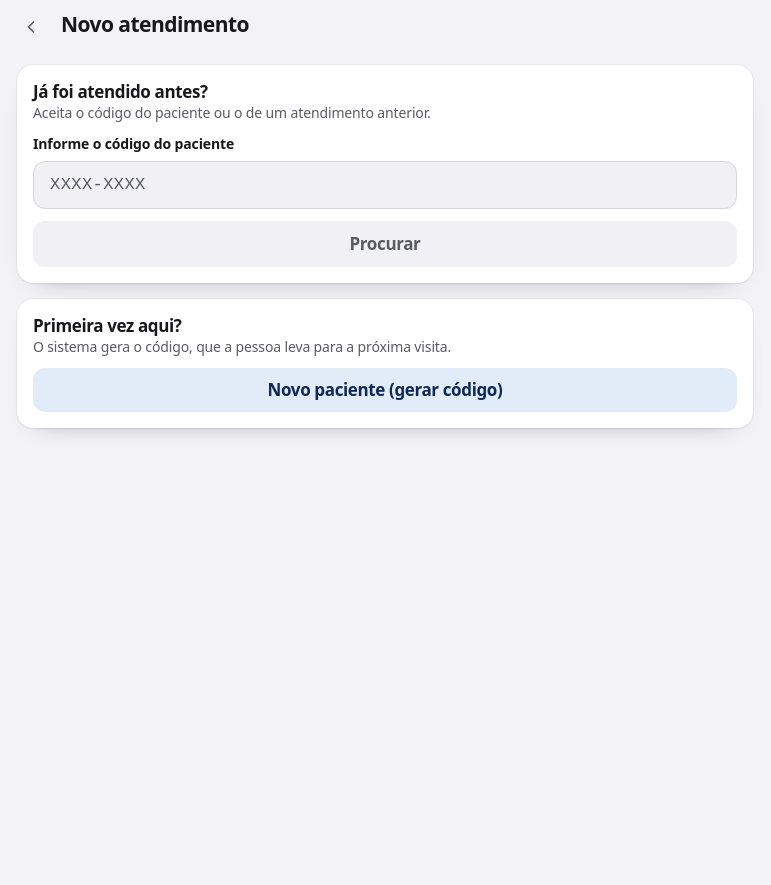
Scenario: Novo atendimento › recupera o cadastro de quem volta com o código
In the field labelled "Informe o código do paciente": (385, 185) left=33, top=161, right=737, bottom=209, type "4K7Z-2YAP"
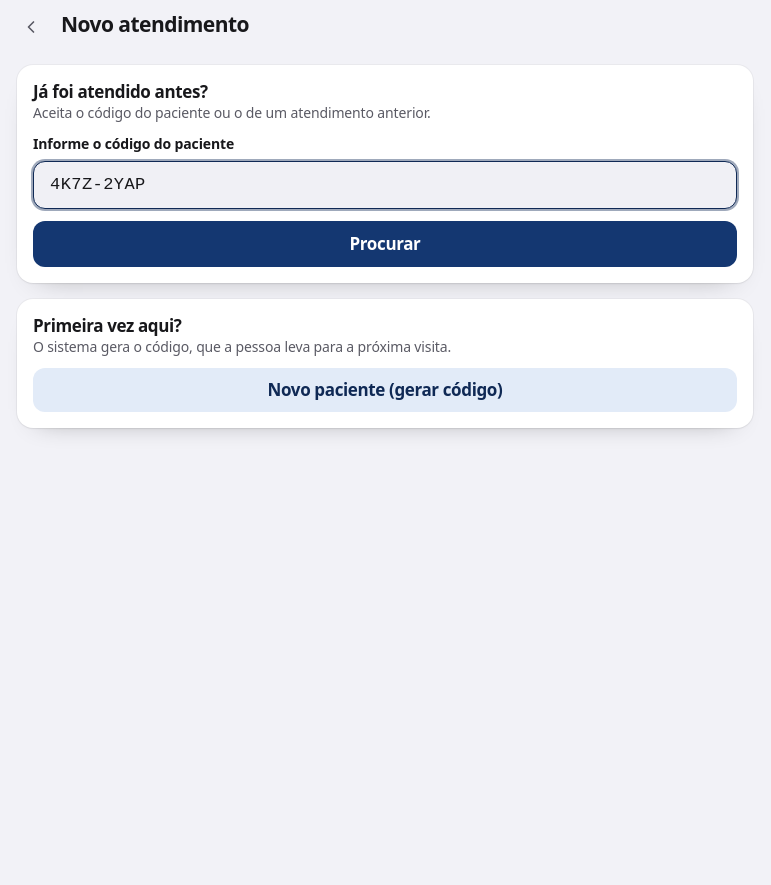
Click the button "Procurar": (385, 244) left=33, top=221, right=737, bottom=267
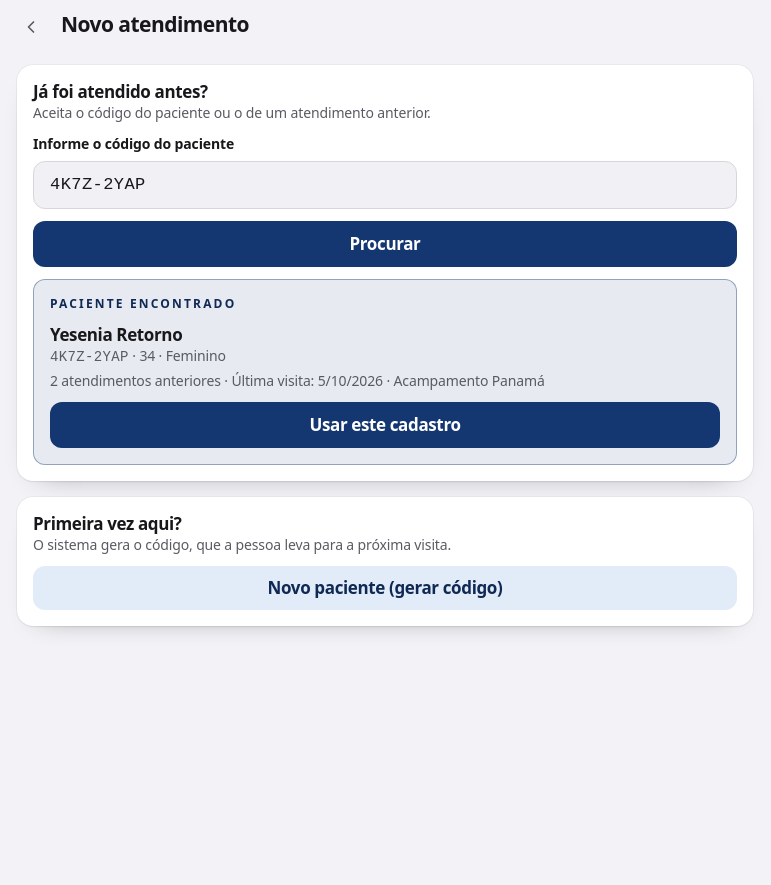
Expected: the text "Yesenia Retorno" is shown, left=50, top=323, right=182, bottom=346
Expected: the text "2 atendimentos anteriores" is shown, left=50, top=371, right=221, bottom=390
Click the button "Usar este cadastro": (385, 425) left=50, top=402, right=720, bottom=448
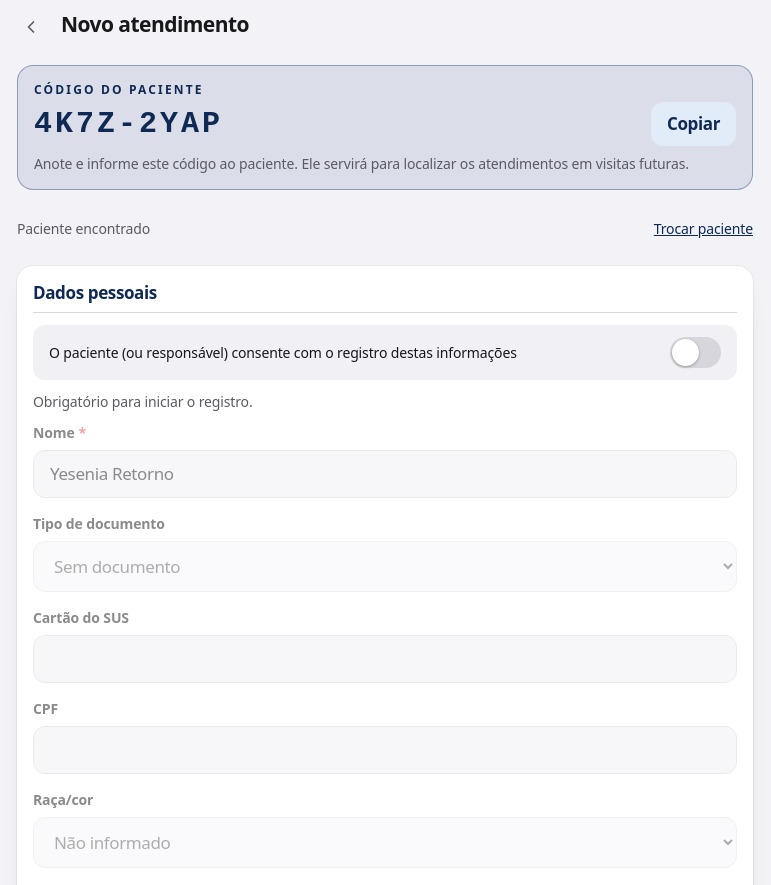
Expected: the text "4K7Z-2YAP" is shown, left=34, top=106, right=223, bottom=142
Expected: the field labelled "Nome*" holds "Yesenia Retorno", left=33, top=450, right=737, bottom=498
